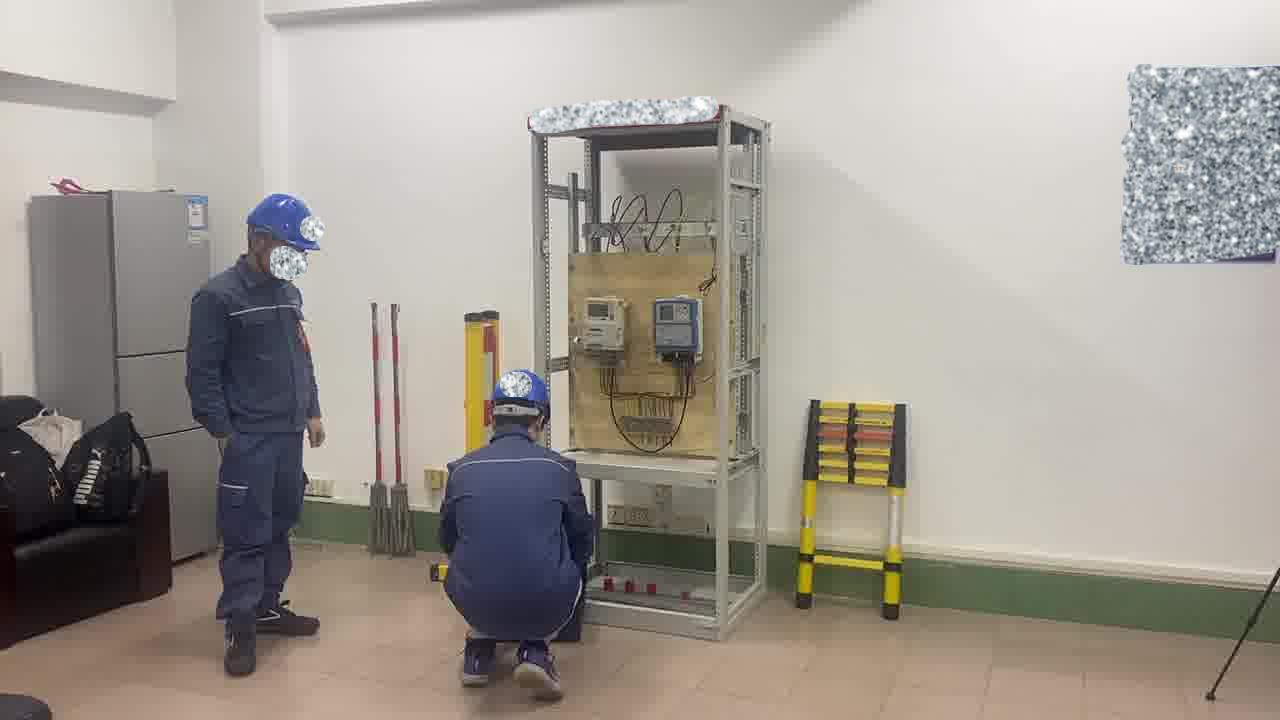halt: (245, 194, 321, 277), (489, 370, 555, 438)
inear: (249, 230, 278, 264)
